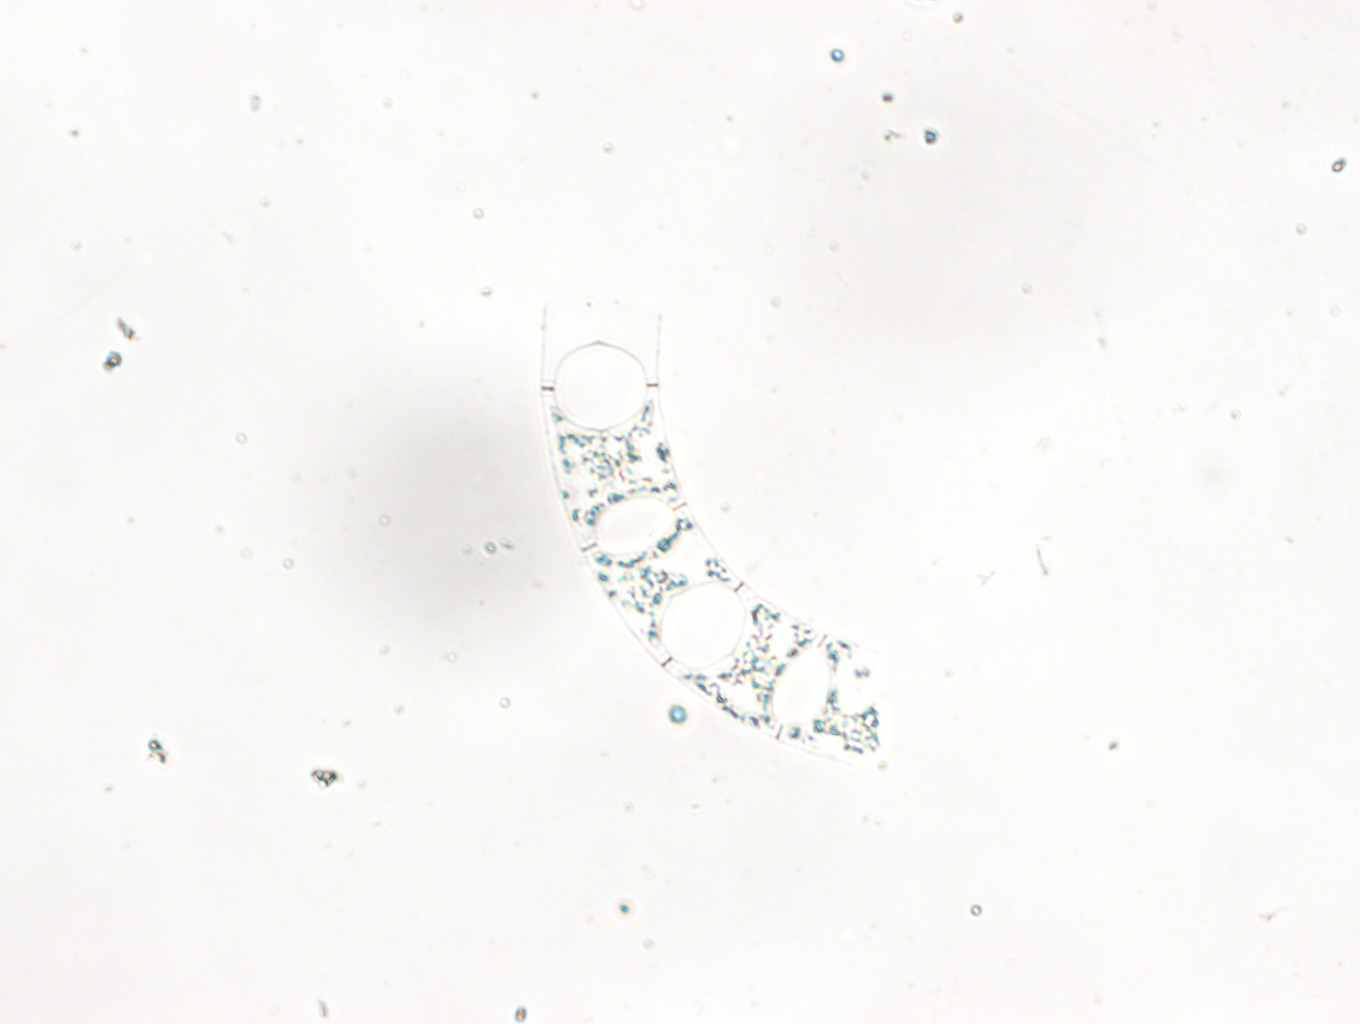eucampia: (541, 312, 879, 764)
